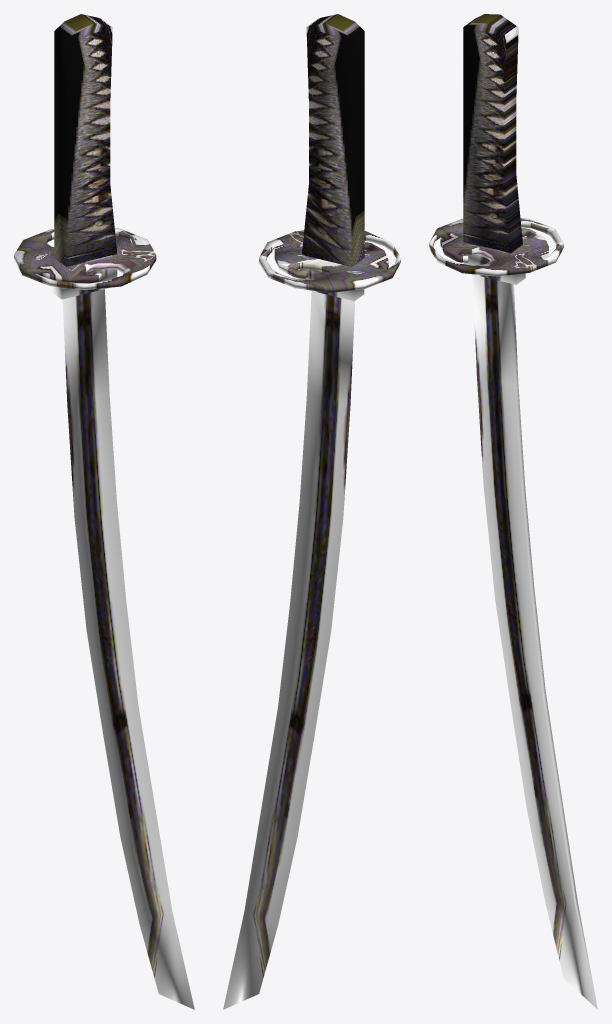
File: sword.obj
3 renders of one model, left to right at view 1: azimuth 30°, elevation 25°; view 2: azimuth 150°, elevation 25°; view 3: azimuth 330°, elevation 25°, orthographic. The views are drawn at different scales.
Parts seen in each view (by area): view 1: sword; view 2: sword; view 3: sword.
Boxes of the visible parts, x1,y1,x2,y2 form: sword: (14,14,194,1009); sword: (223,14,400,1009); sword: (429,14,597,1009).
Size of the model in its own units: 0.463 by 2.64 by 0.3326.
1 material, 1 textured.
